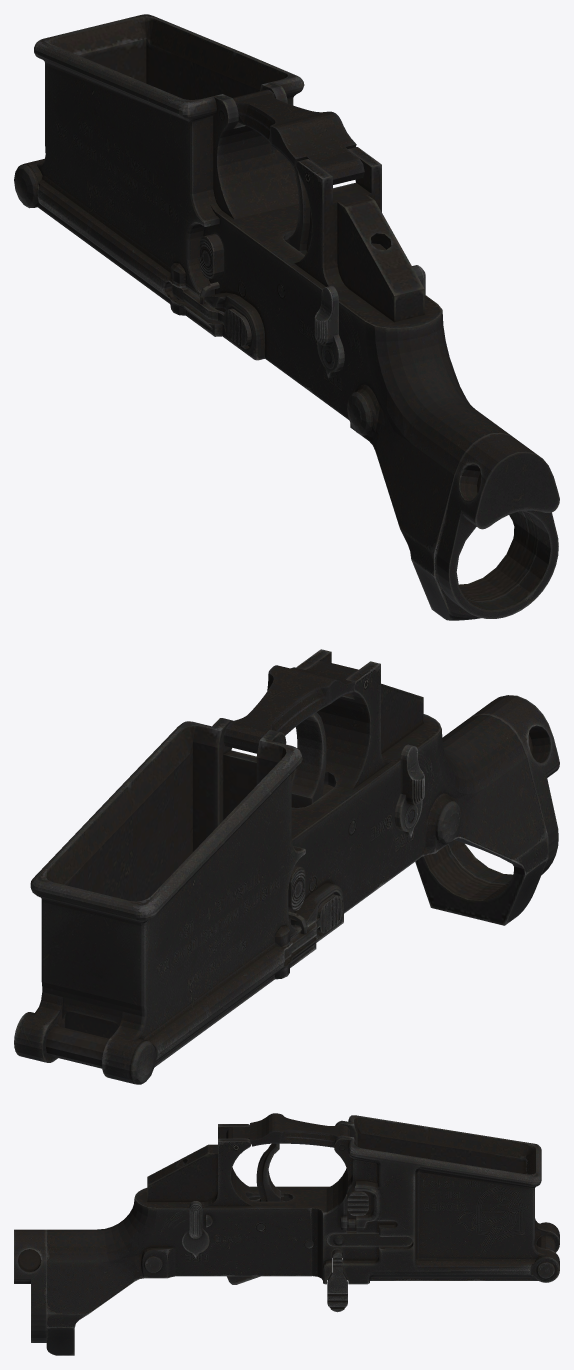
The picture shows the model from 3 angles, top to bottom: view 1: azimuth 30°, elevation 25°; view 2: azimuth 150°, elevation 25°; view 3: azimuth 270°, elevation 25°; orthographic projection. The views are drawn at different scales.
Parts seen in each view (by area): view 1: TW_5df8ce05b11454561e39243b_PZ_Import; view 2: TW_5df8ce05b11454561e39243b_PZ_Import; view 3: TW_5df8ce05b11454561e39243b_PZ_Import.
Part boxes in pixels (bbox=[...]): TW_5df8ce05b11454561e39243b_PZ_Import: bbox=[14, 14, 559, 620]; TW_5df8ce05b11454561e39243b_PZ_Import: bbox=[14, 649, 559, 1084]; TW_5df8ce05b11454561e39243b_PZ_Import: bbox=[14, 1113, 559, 1355].
Size of the model in its own units: 0.0246 by 0.1402 by 0.063.
Materials: 1 (1 with a texture image).
